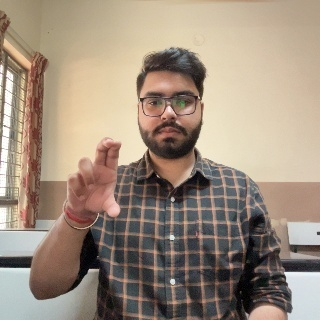Face: (139, 57, 202, 160)
No: (65, 138, 122, 227)
